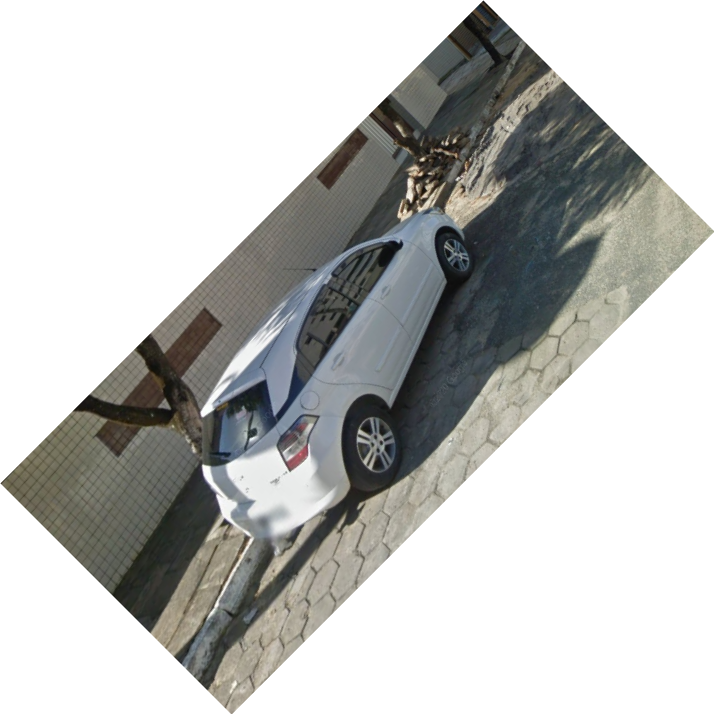car: (197, 203, 475, 548)
